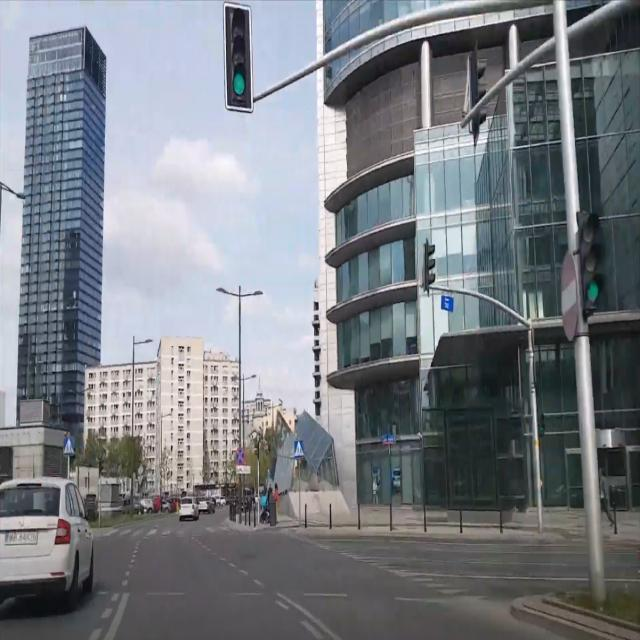Zakaz wjazdu: (559, 254, 579, 342)
Zakaz zatrzymywania sie: (233, 447, 246, 465)
